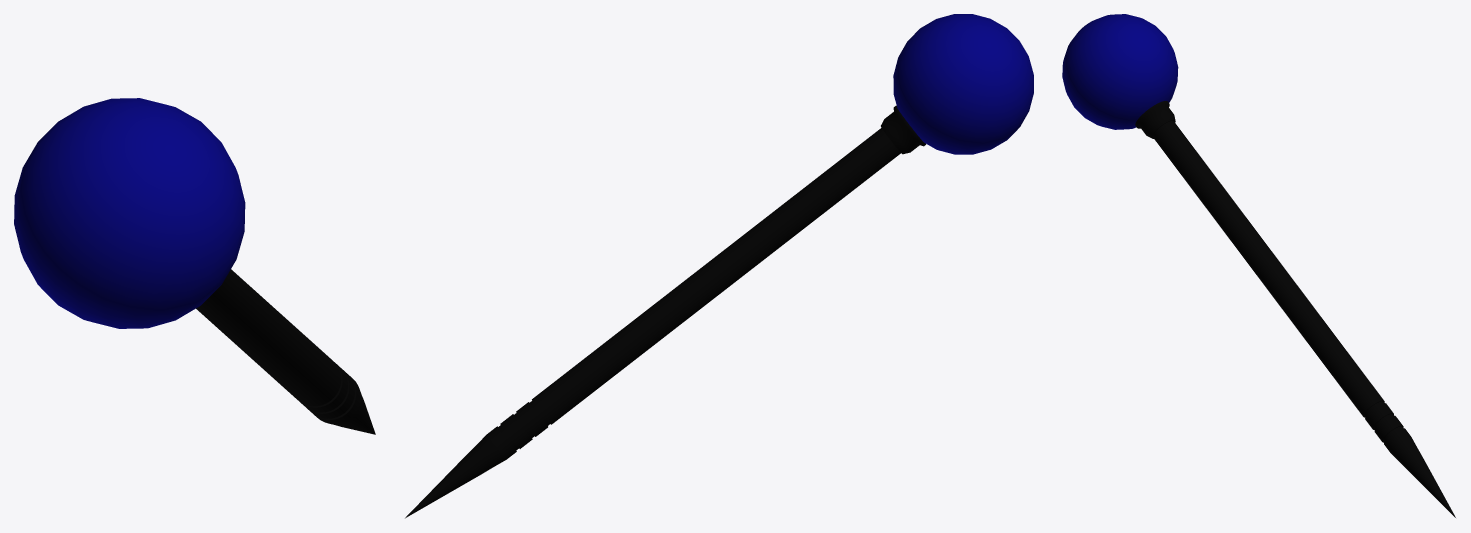
File: NAVY.glb
3 renders of one model, left to right at view 1: azimuth 30°, elevation 25°; view 2: azimuth 150°, elevation 25°; view 3: azimuth 270°, elevation 25°, orthographic. The views are drawn at different scales.
Visible parts, largest first — view 1: Sphere, Needle; view 2: Needle, Sphere, Ball_Holder; view 3: Needle, Sphere, Ball_Holder.
Boxes of the visible parts, box(x1,y1,x2,y2) form: Sphere: box(14, 98, 245, 328); Needle: box(196, 269, 375, 434); Needle: box(405, 128, 900, 518); Sphere: box(893, 14, 1033, 154); Ball_Holder: box(881, 105, 926, 154); Needle: box(1152, 120, 1455, 517); Sphere: box(1062, 14, 1178, 129); Ball_Holder: box(1135, 101, 1175, 138).
Size of the model in its own units: 7.45 by 7.45 by 7.45.
